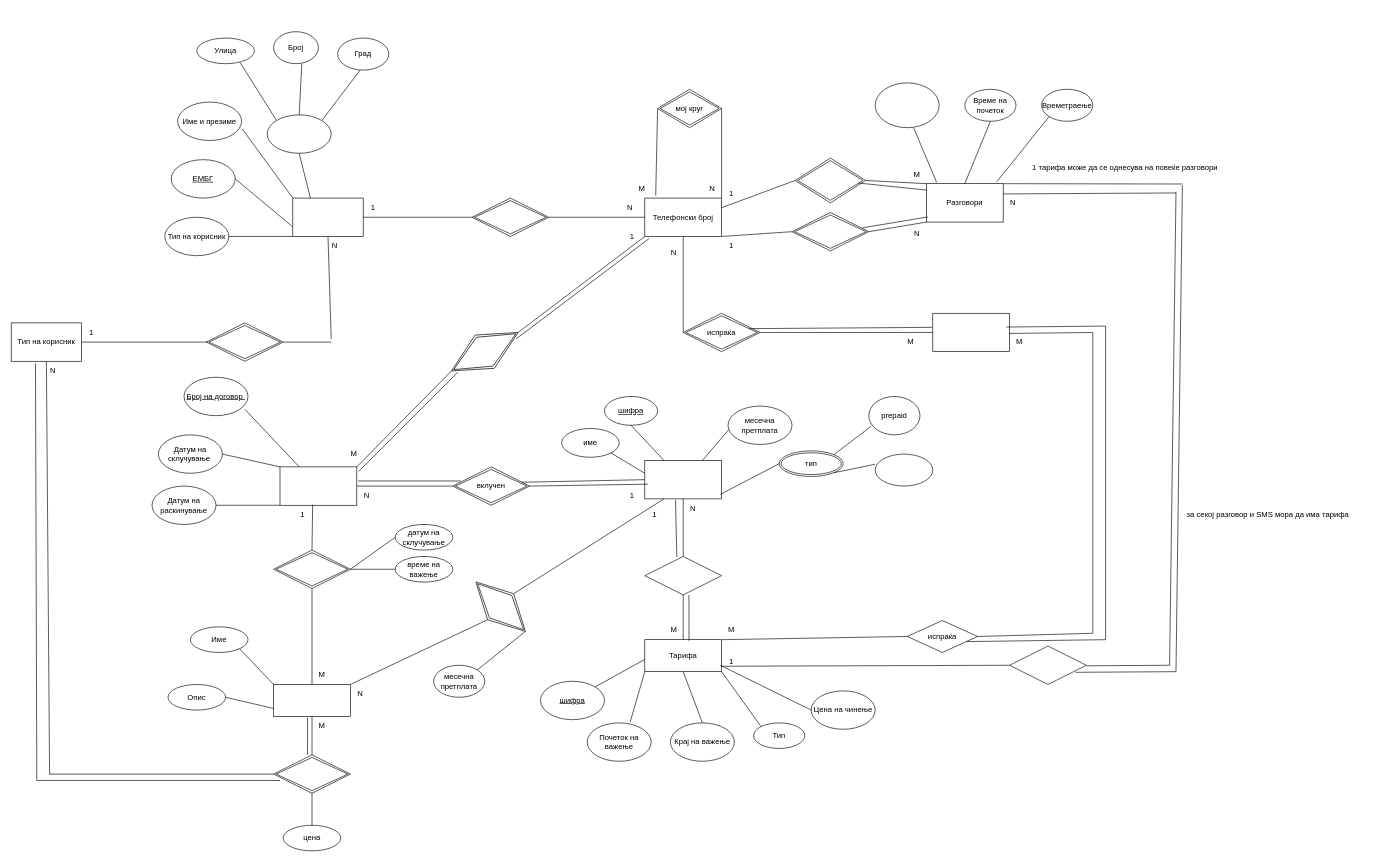
Image size: 1373x862. Some labels were removed from this diagram. Here are the shapes that lost their labels. From the top down, the centre of each, then its label:
the point at 907,105: Датум кога е одржан разговорот
the point at 299,133: Адреса
the point at 830,180: кој повикал
the point at 327,216: Корисник
the point at 510,216: припаѓа
the point at 830,231: кој е повикувач
the point at 484,351: се однесуваат
the point at 971,332: SMS
the point at 318,485: Договор
the point at 683,479: Пакети
the point at 904,469: postpaid
the point at 311,568: се вклучува
the point at 683,575: придружена
the point at 500,606: вклучени
the point at 1047,664: воспоставува
the point at 311,700: Дополнителни услуги
the point at 311,773: зависи
